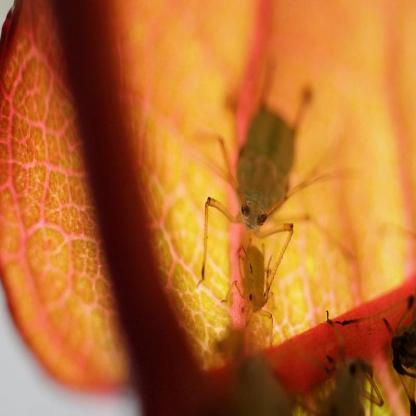aphid: (189, 43, 338, 276), (313, 341, 384, 416), (229, 230, 278, 326)
